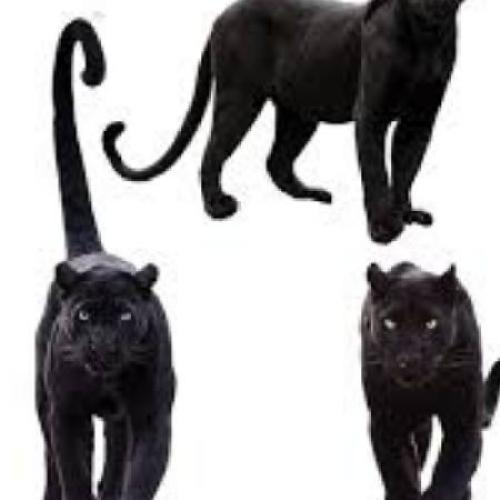panther-endangered: (134, 0, 457, 219), (38, 231, 176, 498), (360, 261, 489, 499)
